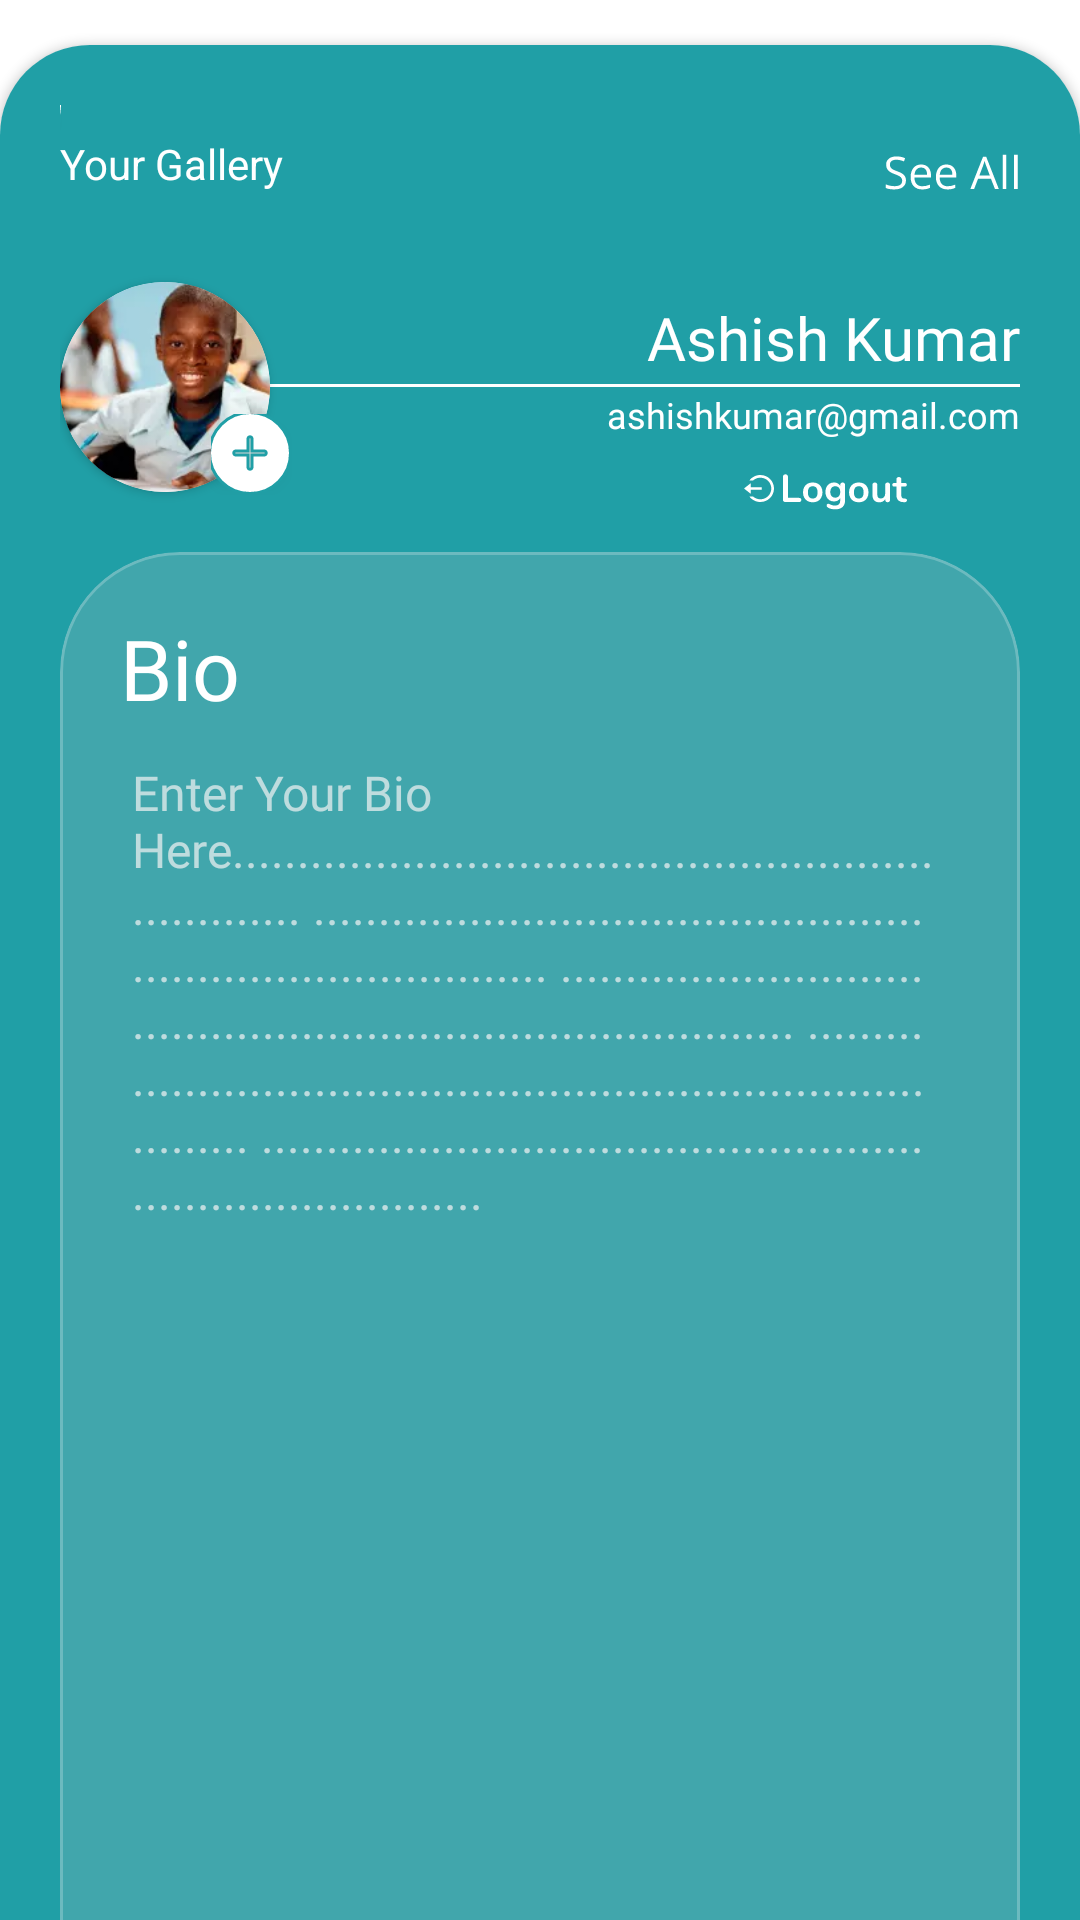

Icons on this 1080x1920 Android screen, each with the point to tap as [x,y]:
kid: [165,387]
